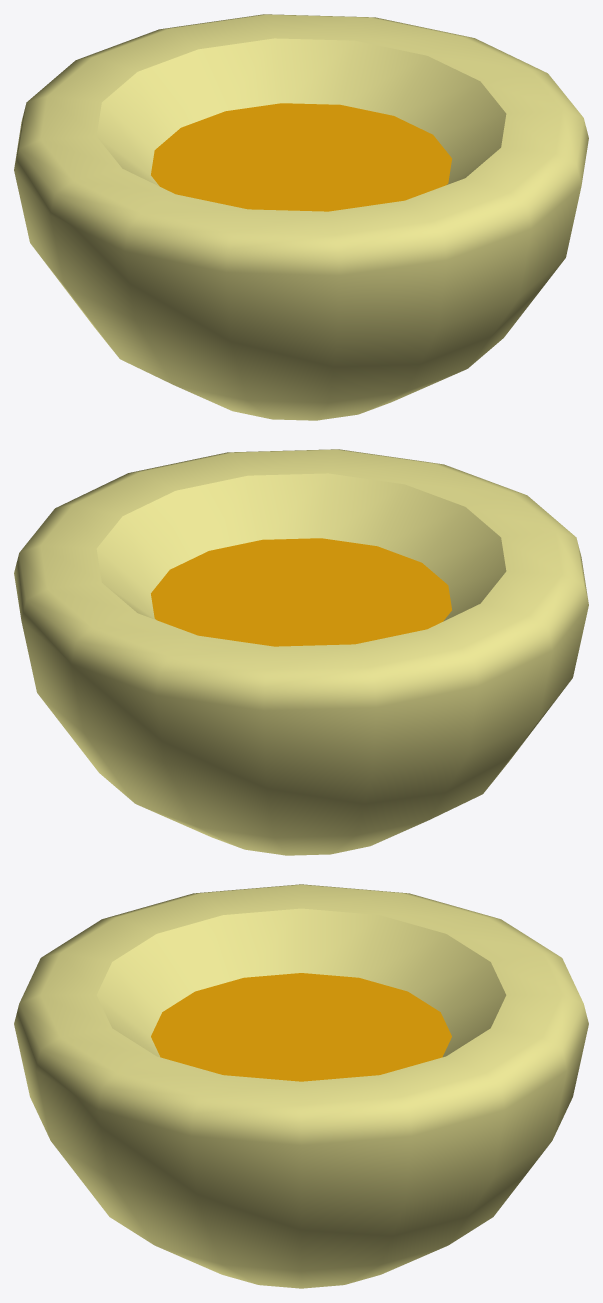
The model's file is soup.fbx.
The picture shows the model from 3 angles, top to bottom: view 1: azimuth 30°, elevation 25°; view 2: azimuth 150°, elevation 25°; view 3: azimuth 270°, elevation 25°; orthographic projection.
Parts seen in each view (by area): view 1: Sphere; view 2: Sphere; view 3: Sphere.
Boxes of the visible parts, box(x1,y1,x2,y2) form: Sphere: box(14, 14, 588, 420); Sphere: box(14, 449, 588, 855); Sphere: box(14, 884, 588, 1288).
Size of the model in its own units: 60.3 by 30.82 by 60.3.
